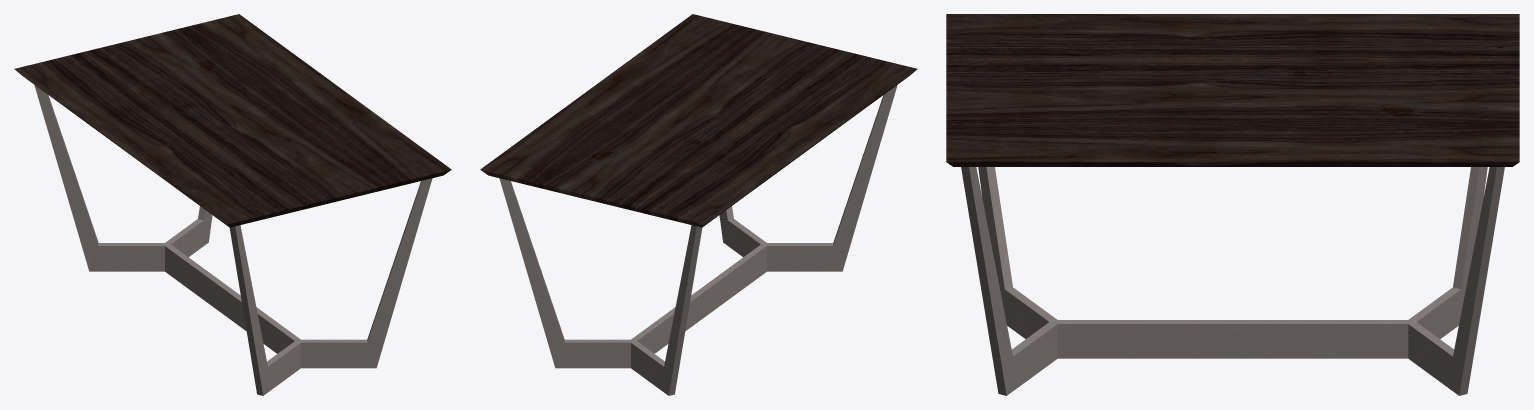
File: Mdl.CoffeeTable.fbx
3 renders of one model, left to right at view 1: azimuth 30°, elevation 25°; view 2: azimuth 150°, elevation 25°; view 3: azimuth 270°, elevation 25°, orthographic. The views are drawn at different scales.
Parts seen in each view (by area): view 1: Table; view 2: Table; view 3: Table.
Part boxes in pixels (bbox=[...]): Table: bbox=[14, 14, 451, 395]; Table: bbox=[480, 14, 917, 395]; Table: bbox=[946, 14, 1519, 395].
Size of the model in its own units: 0.55 by 0.465 by 0.9.
1 material, 1 textured.
